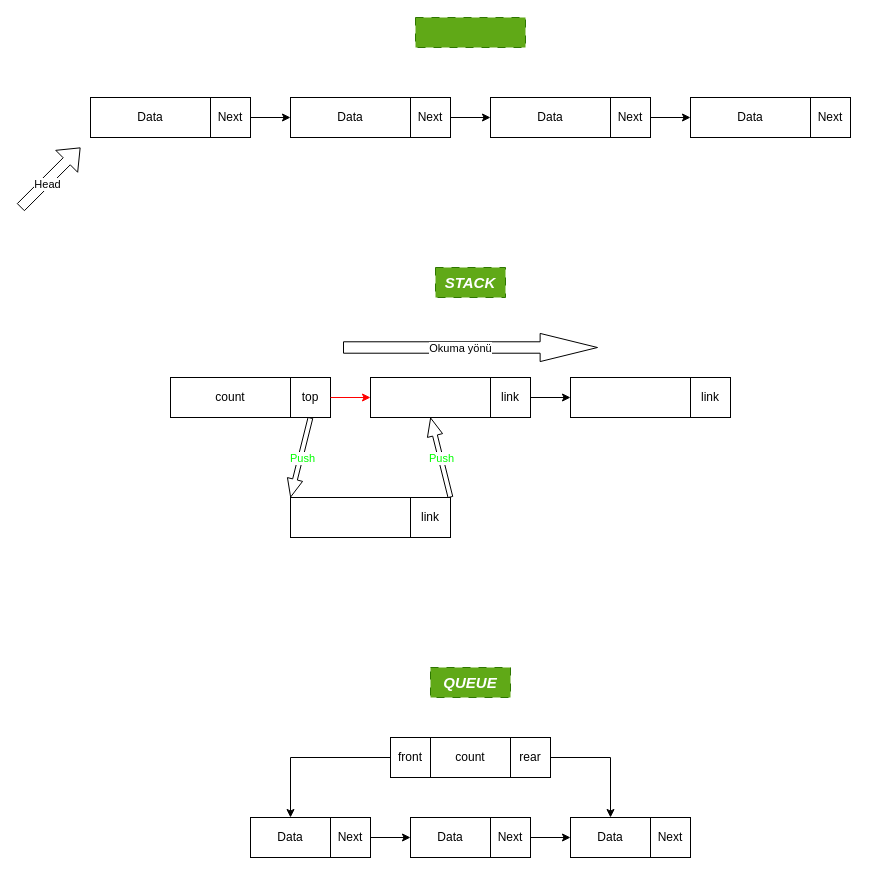
Image size: 869x875. Some labels were removed from this diagram. The shapes that lost their labels are listed below. From the top down, each one's centre as x and y in pixels, then its label:
At [470,32]: "LİNEER LİST".
At [430,397]: "data 2".
At [630,397]: "data 1".
At [350,517]: "data 3".
